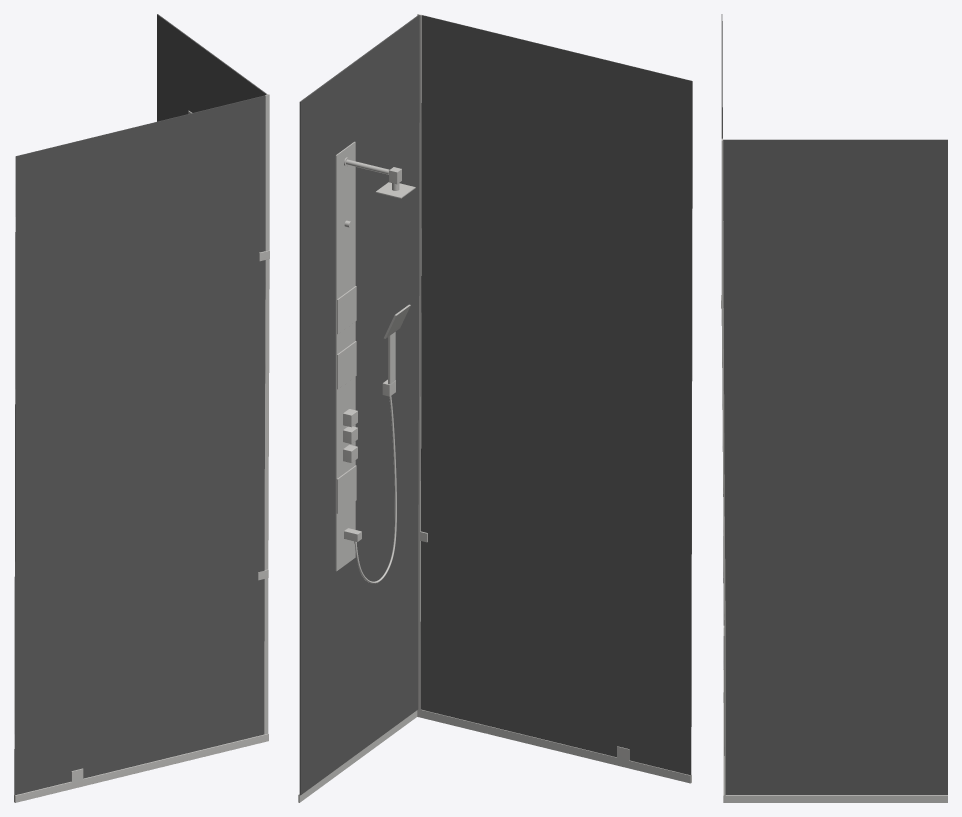
The model's file is Shower_enclosures_007.gltf.
3 views of the same model, side by side, from view 1: azimuth 30°, elevation 25°; view 2: azimuth 150°, elevation 25°; view 3: azimuth 270°, elevation 25° (orthographic). The views are drawn at different scales.
Parts seen in each view (by area): view 1: Shower_enclosures_007; view 2: Shower_enclosures_007; view 3: Shower_enclosures_007.
Part boxes in pixels (box(x1,y1,x2,y2)): Shower_enclosures_007: box(14, 14, 269, 802); Shower_enclosures_007: box(298, 14, 692, 802); Shower_enclosures_007: box(721, 14, 947, 802).
Bounding box in the file's own units: 8 × 19.5 × 6.05.
2 materials, 2 textured.
